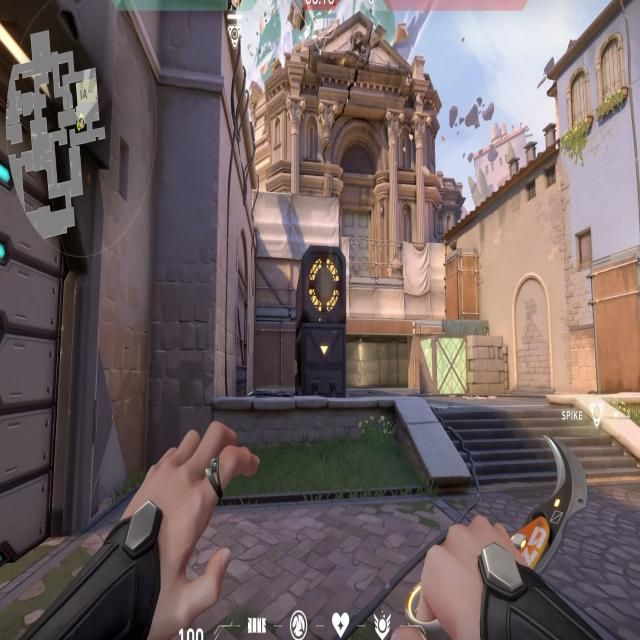A_Heaven_Box: (446, 248, 480, 326)
A_Heaven_Wall: (248, 195, 340, 330)
A_Hell: (0, 1, 111, 590), (344, 315, 416, 403)
A_Site_Box: (420, 327, 508, 409)
